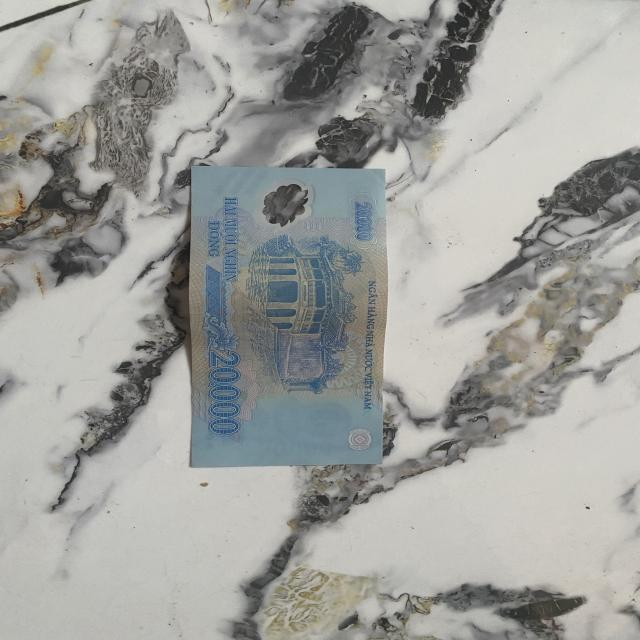20 000 VND: (186, 165, 389, 468)
